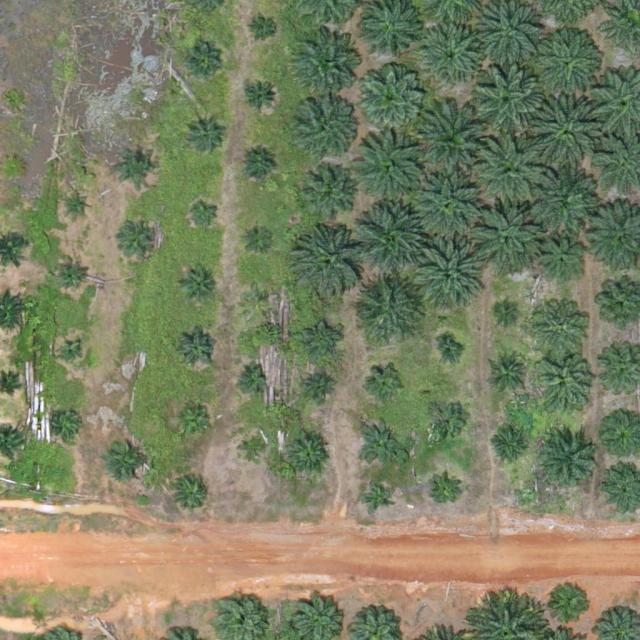Healthy: (416, 102, 494, 181), (290, 224, 368, 303), (355, 64, 426, 135), (532, 98, 603, 168), (524, 161, 594, 232), (470, 199, 540, 270), (413, 170, 483, 241), (357, 136, 427, 207), (357, 202, 428, 272), (474, 66, 544, 137), (291, 33, 361, 104), (477, 135, 547, 205), (412, 238, 482, 308), (352, 274, 422, 344), (535, 430, 598, 493), (537, 34, 600, 97), (422, 25, 485, 88), (295, 94, 357, 157), (533, 299, 588, 354), (538, 358, 593, 413), (301, 168, 356, 223), (536, 238, 583, 286)
Small: (105, 437, 152, 485), (286, 431, 333, 478), (358, 420, 405, 467), (123, 219, 163, 259), (186, 115, 225, 155), (178, 264, 217, 304), (173, 475, 213, 514), (491, 429, 530, 469), (552, 583, 591, 623), (425, 401, 465, 440), (239, 147, 278, 187), (173, 401, 213, 440), (241, 77, 280, 117), (117, 147, 156, 186), (185, 46, 224, 85), (178, 330, 217, 369), (303, 322, 342, 361), (601, 418, 640, 457), (368, 365, 407, 404), (430, 477, 461, 509), (307, 371, 338, 403), (363, 483, 394, 515), (243, 221, 274, 253), (243, 281, 274, 313), (236, 362, 267, 394), (190, 197, 221, 229), (55, 409, 86, 440), (493, 358, 524, 389), (239, 435, 270, 466), (56, 258, 87, 289), (249, 15, 280, 46), (498, 302, 522, 326), (67, 194, 91, 218), (60, 343, 84, 367), (2, 157, 26, 181), (439, 340, 462, 364)
